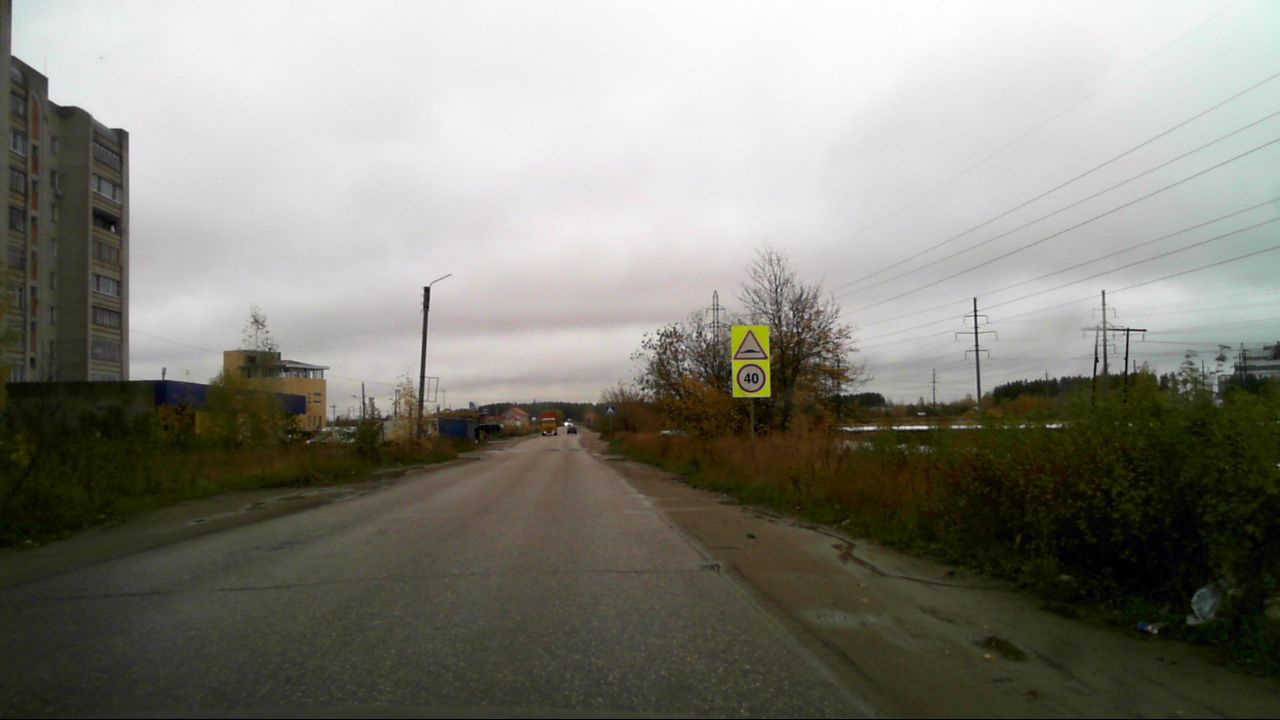speed_warning_40: (736, 363, 765, 392)
